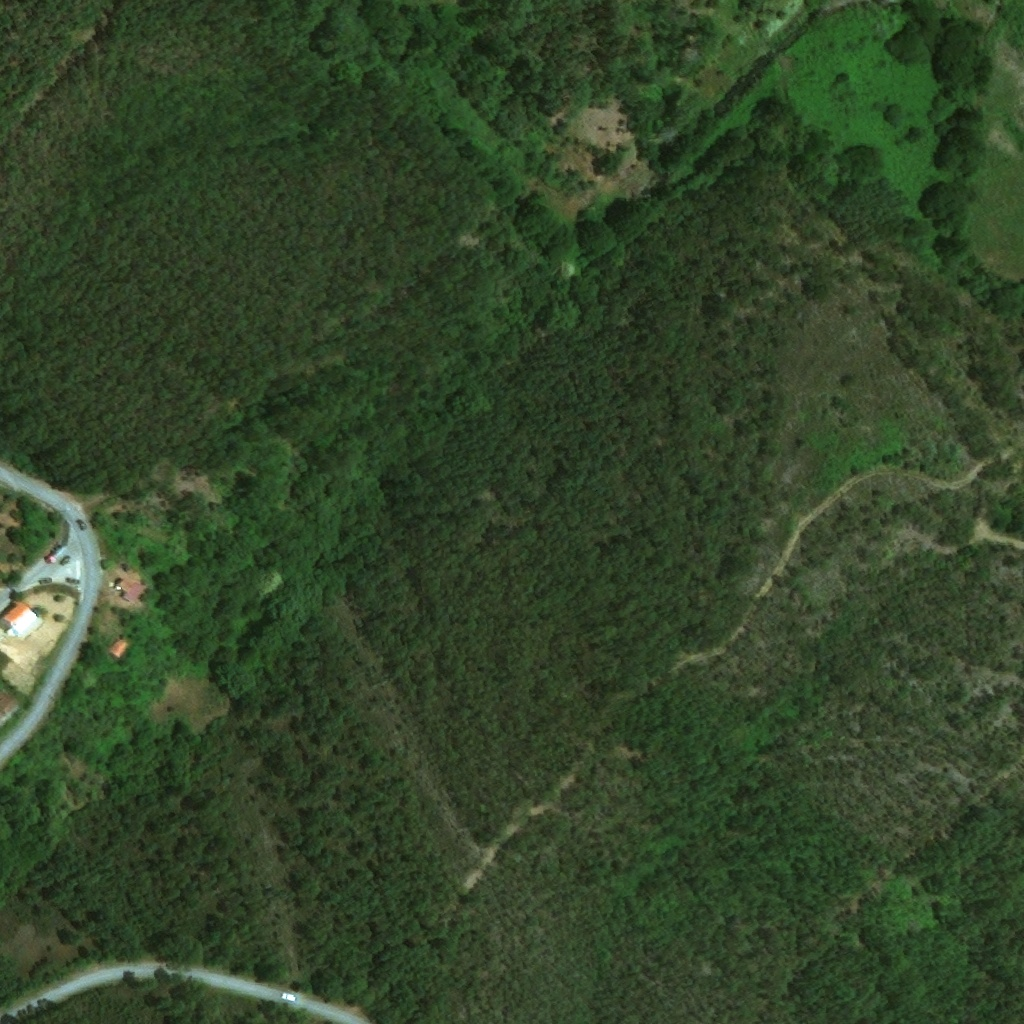0 no-damage: (0, 602, 37, 636), (0, 688, 18, 724), (115, 579, 143, 602), (107, 640, 127, 659)
